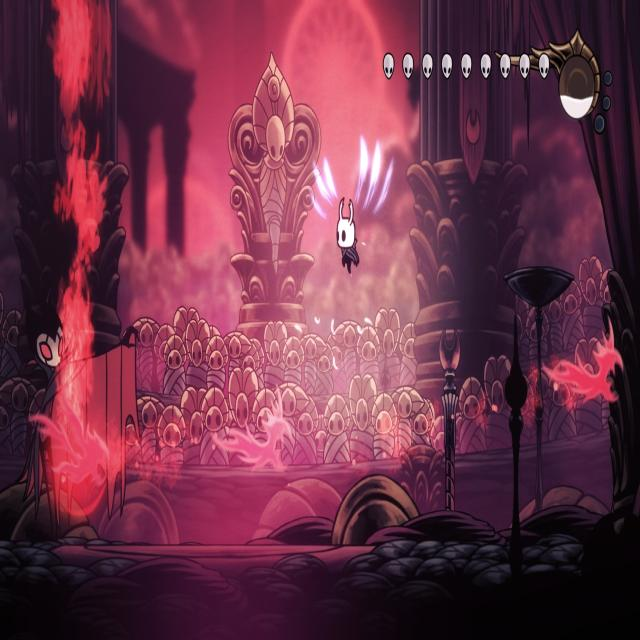Fire Bat: (27, 389, 111, 486), (545, 316, 622, 408)
Open Cloak: (13, 298, 145, 546)
Player: (333, 193, 359, 278)
